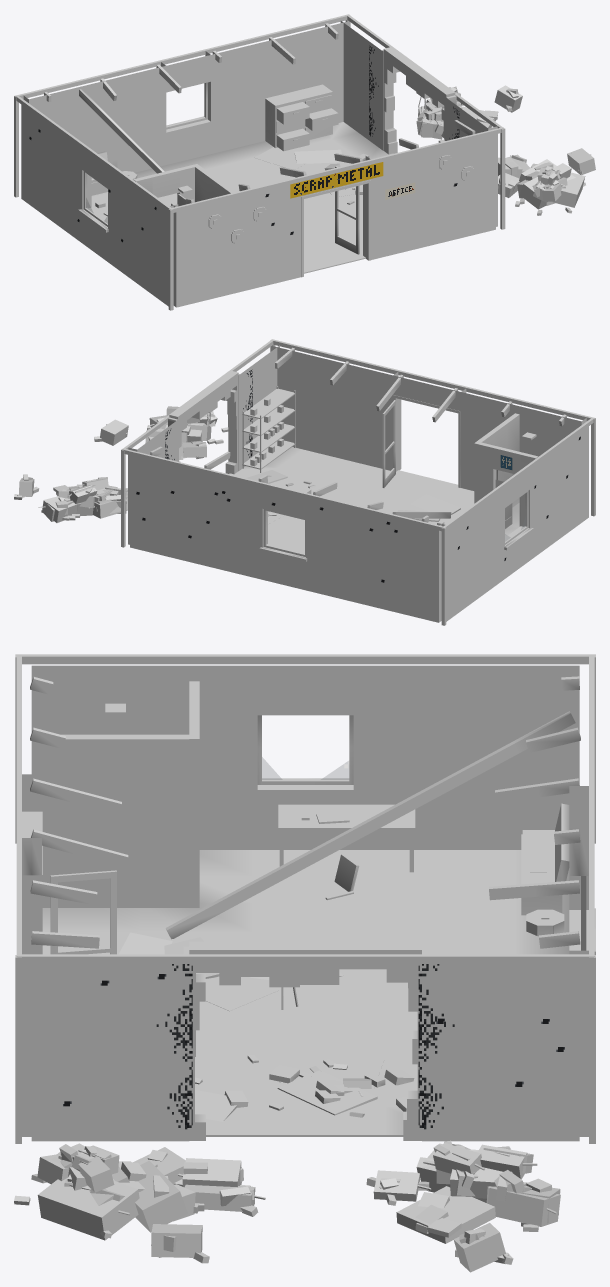
The model's file is junk_office.glb.
3 views of the same model, one above another, from view 1: azimuth 30°, elevation 25°; view 2: azimuth 150°, elevation 25°; view 3: azimuth 270°, elevation 25° (orthographic). The views are drawn at different scales.
Parts seen in each view (by area): view 1: junk_office; view 2: junk_office; view 3: junk_office.
Boxes of the visible parts, left/top/right/bottom form: junk_office: left=14, top=14, right=595, bottom=310; junk_office: left=14, top=339, right=595, bottom=625; junk_office: left=14, top=654, right=595, bottom=1272.
Size of the model in its own units: 14.81 by 3.18 by 8.5.
Materials: 4 (3 with a texture image).
